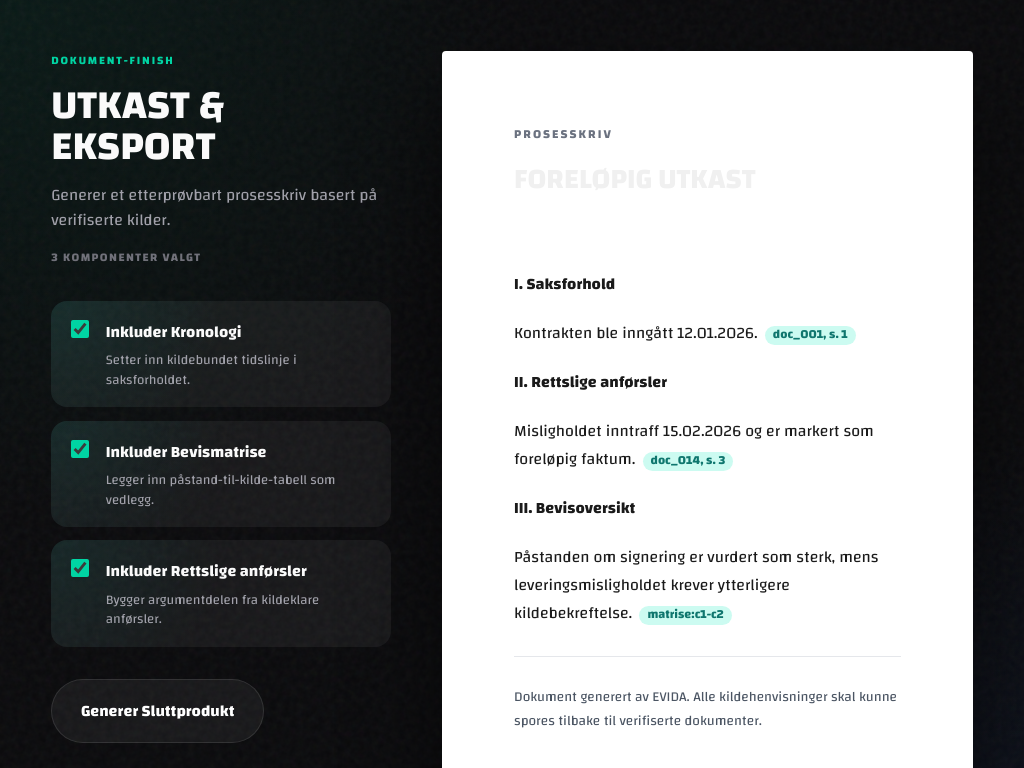
Scenario: UtkastModul › requires quality checklist confirmation before DOCX generation
What coordinates should you click on to do the following:
click the button "Generer Sluttprodukt"
I would click on:
 (158, 711)
Its box is [51,679,264,743].
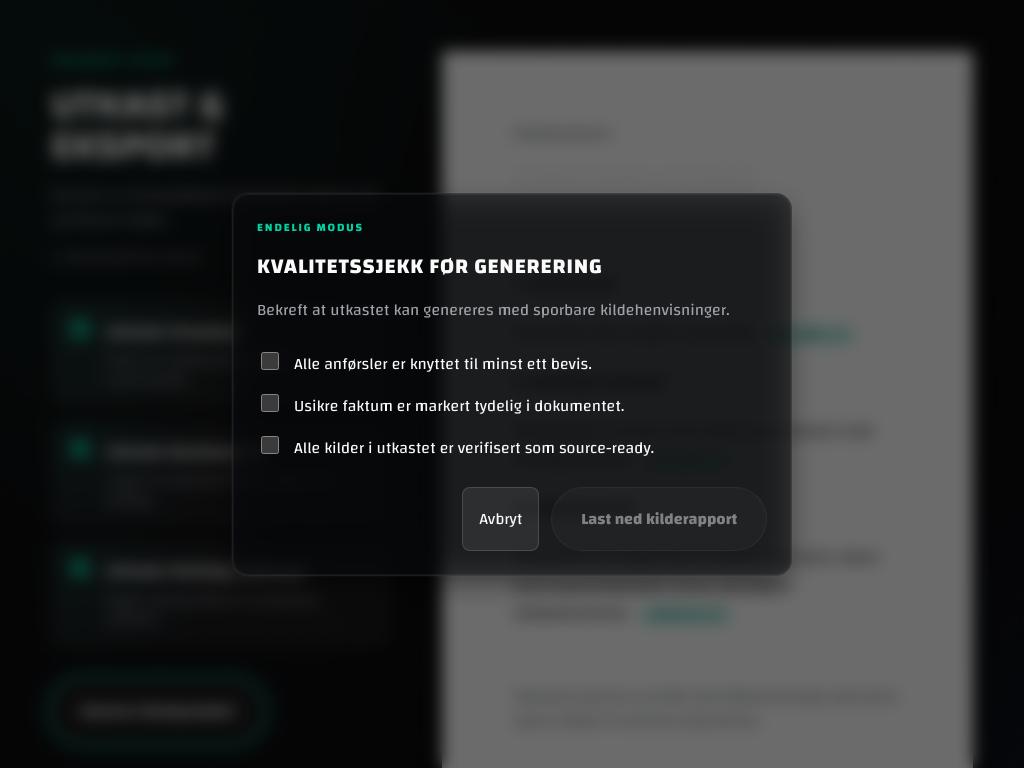
expect the button "Last ned kilderapport" is disabled: met, box [552,486,767,550]
What coordinates should you click on to do the following:
click the checkbox labelled "Alle anførsler er knyttet til minst ett bevis."
I would click on:
 (270, 360)
Its box is [261,352,279,370].
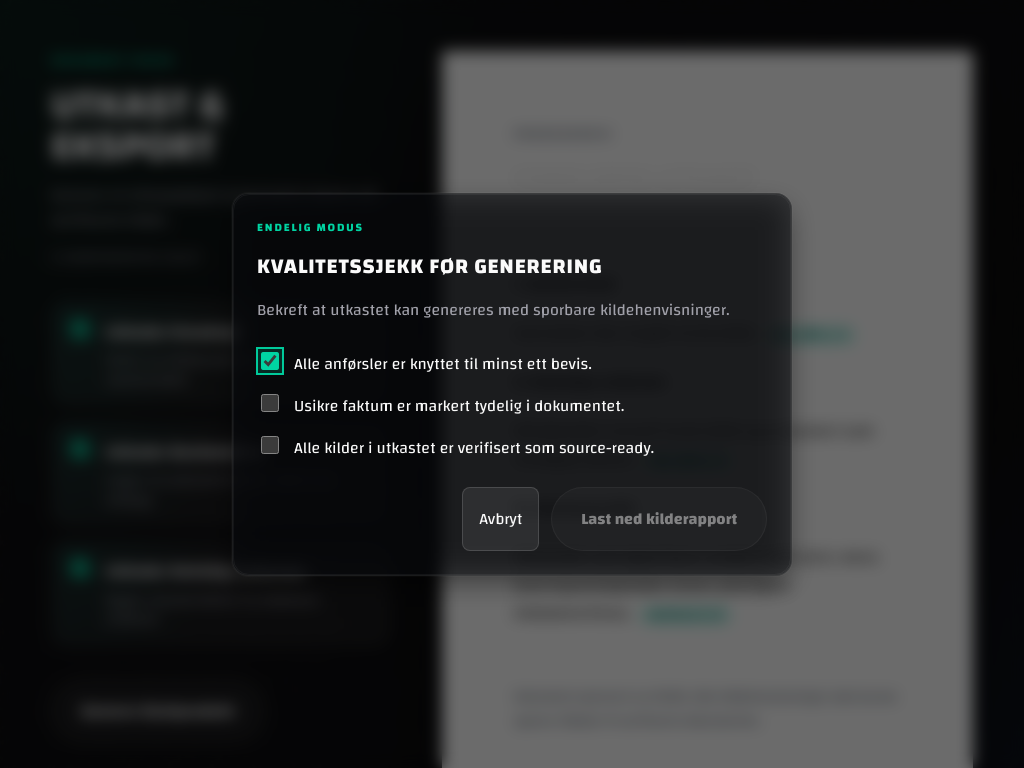
What coordinates should you click on to do the following:
click the checkbox labelled "Usikre faktum er markert tydelig i dokumentet."
I would click on:
 (270, 402)
Its box is [261,394,279,412].
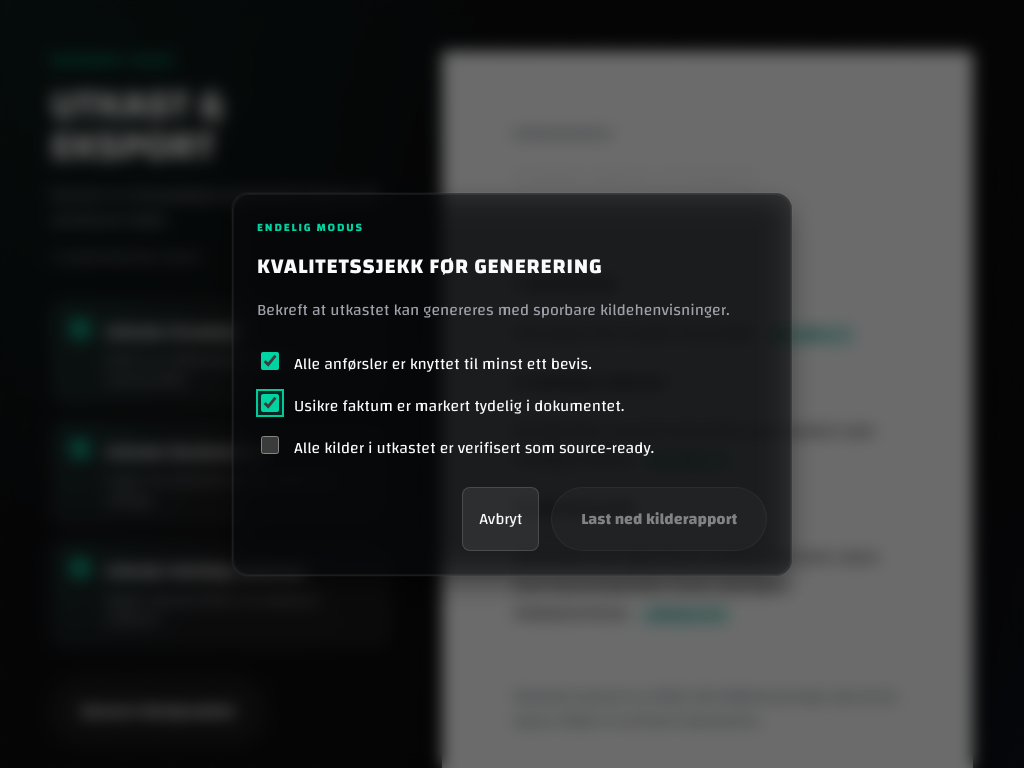
What coordinates should you click on to do the following:
click the checkbox labelled "Alle kilder i utkastet er verifisert som source-ready."
I would click on:
 (270, 444)
Its box is [261,436,279,454].
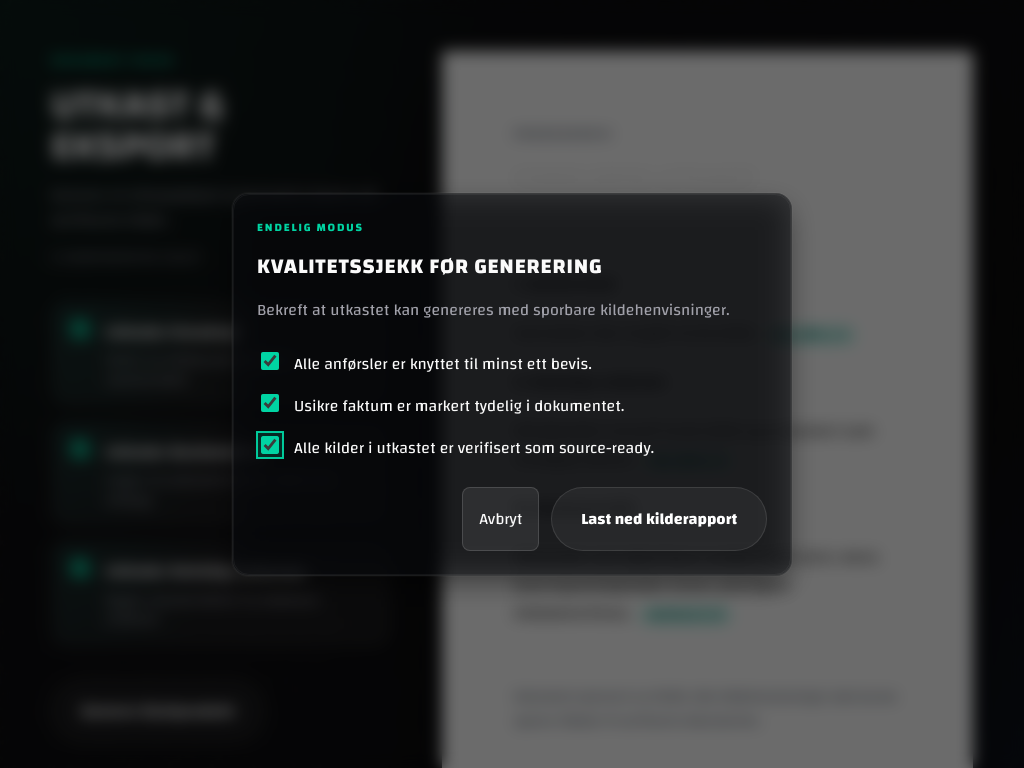
What coordinates should you click on to do the following:
click the button "Last ned kilderapport"
I would click on:
 (659, 518)
Its box is [552,486,767,550].
(page scrolled)
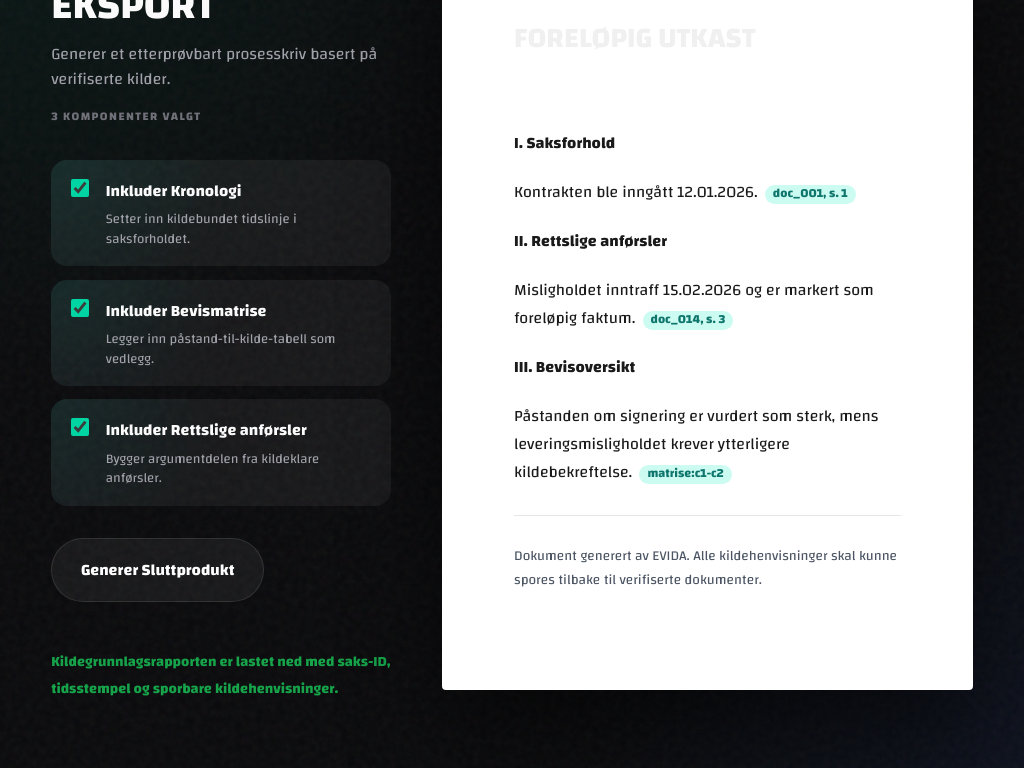
expect the heading "Kvalitetssjekk" is gone: met
expect the text "Kildegrunnlagsrapporten er lastet ned" is shown: met, box [51,648,391,702]
